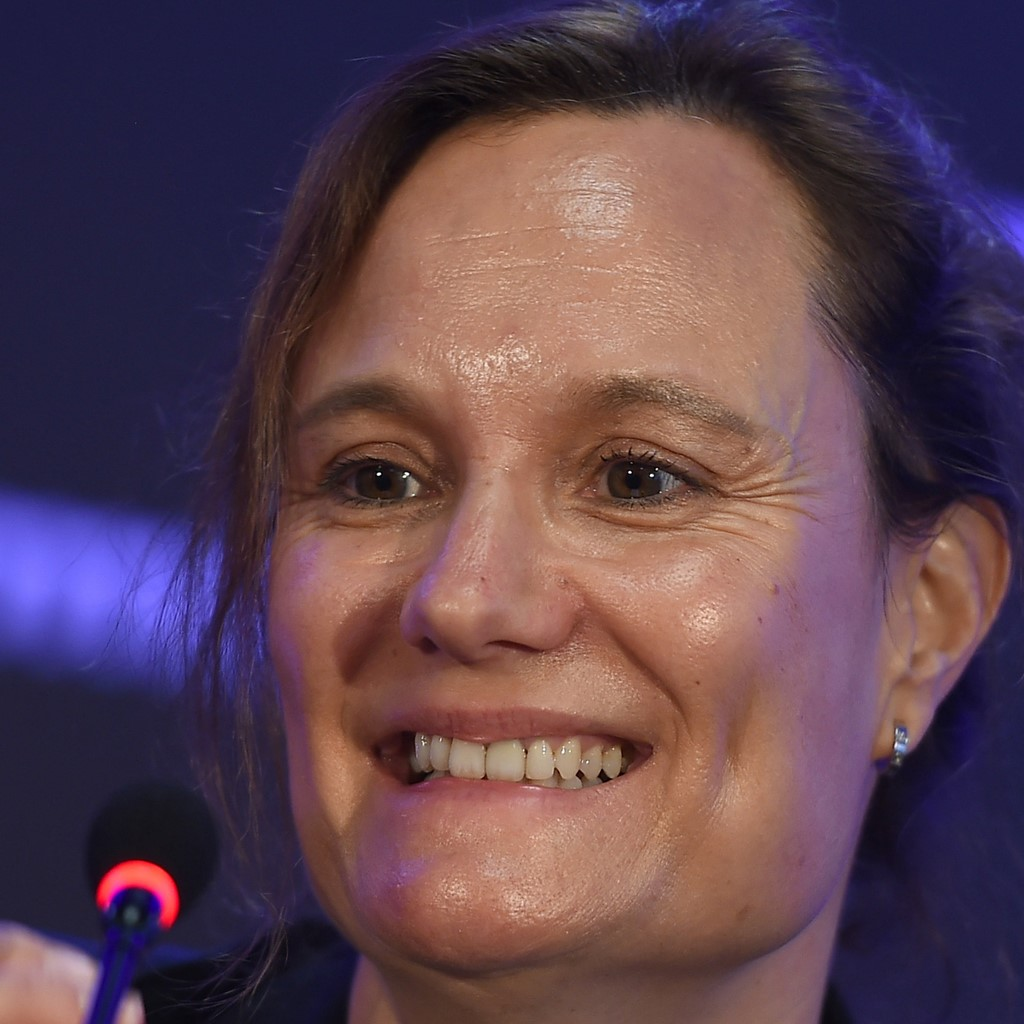sin_mascara: (274, 126, 883, 967)
